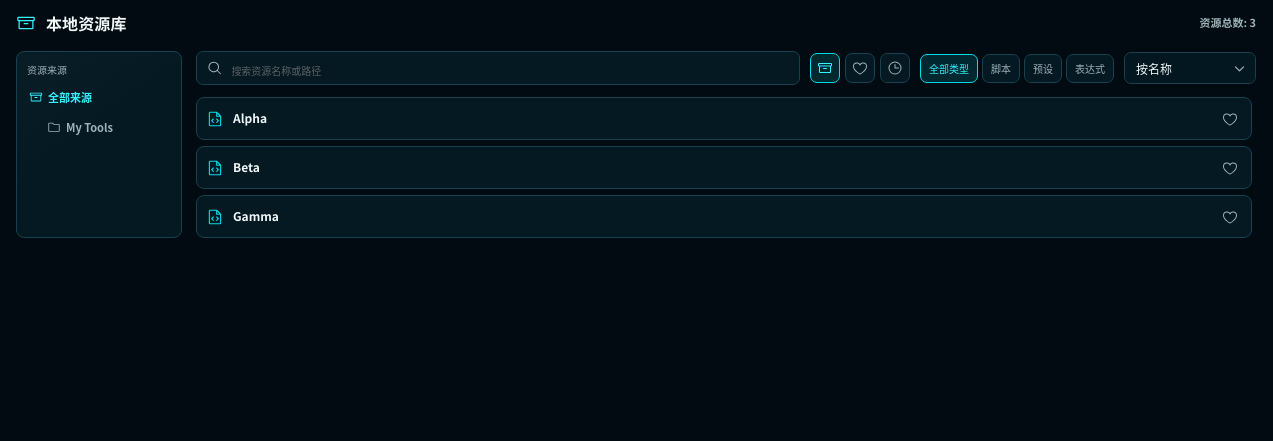
Test: resource page selection and keyboard execution › selects the context-menu target and exposes shared resource commands
The width and height of the screenshot is (1273, 441).
Step 1. Right-click the option "Beta" → coordinates (215, 168), box [196,146,1252,189]
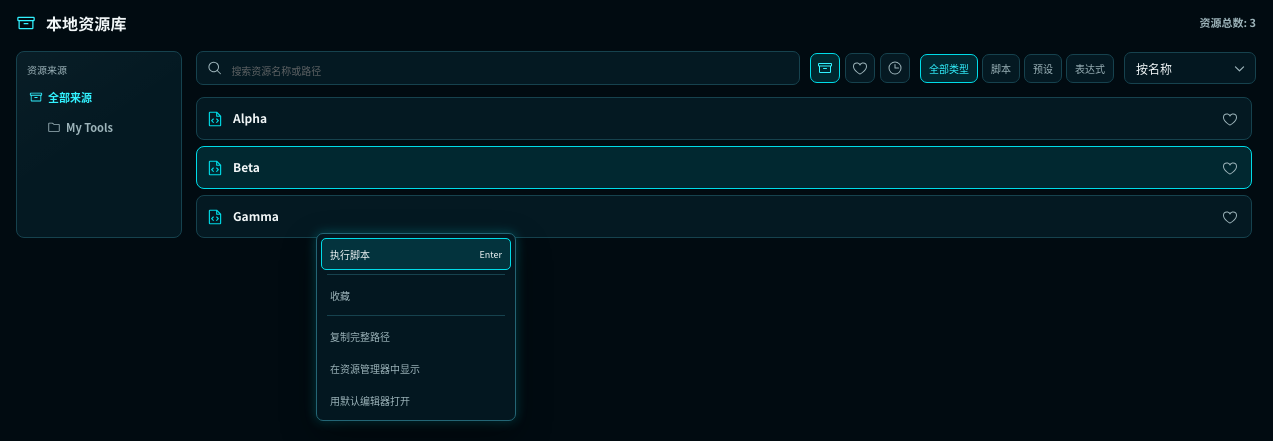
Expected: the menu is shown, [316,233,516,421]
Expected: the menu shows "执行脚本", [321,238,511,270]
Expected: the menu shows "复制完整路径", [321,320,511,352]
